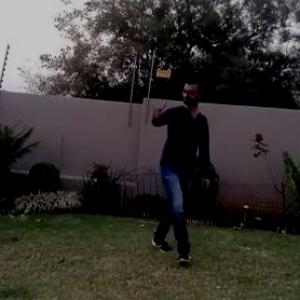takeoff-hand: (148, 95, 171, 127)
